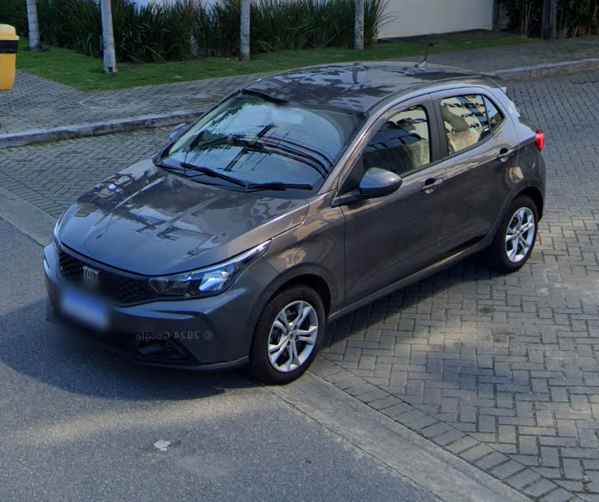car: (40, 36, 548, 387)
